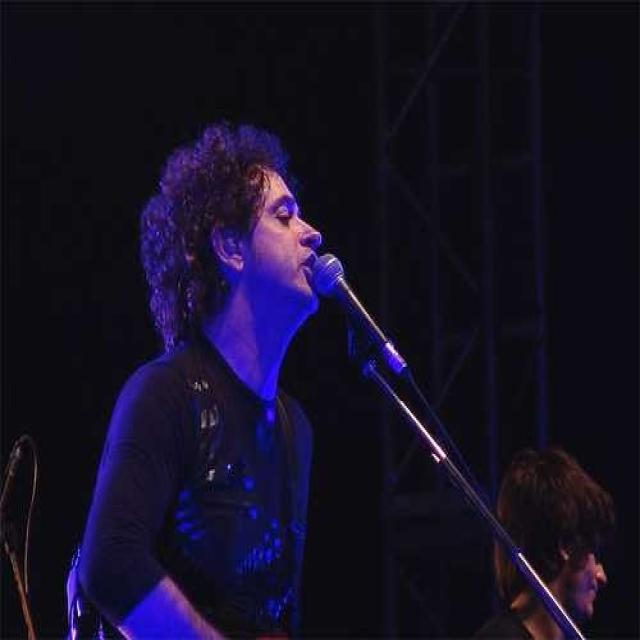microphone: (309, 253, 407, 379)
